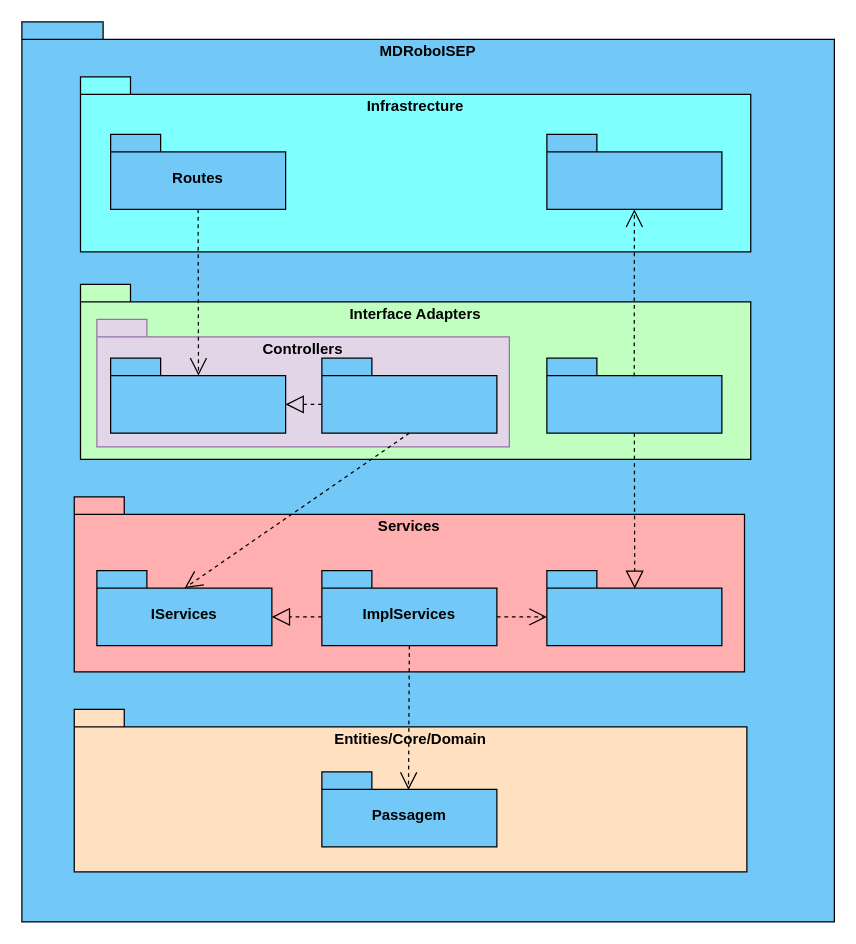
The diagram is 856 pixels wide and 944 high, and some of its shapes have lost their labels. Here are the shapes that lost their labels. From the top down, the centre of each, then its label:
the point at 634,171: Persistence
the point at 197,395: IControllers
the point at 409,395: ImplControllers
the point at 634,395: Repos
the point at 634,607: IRepos
